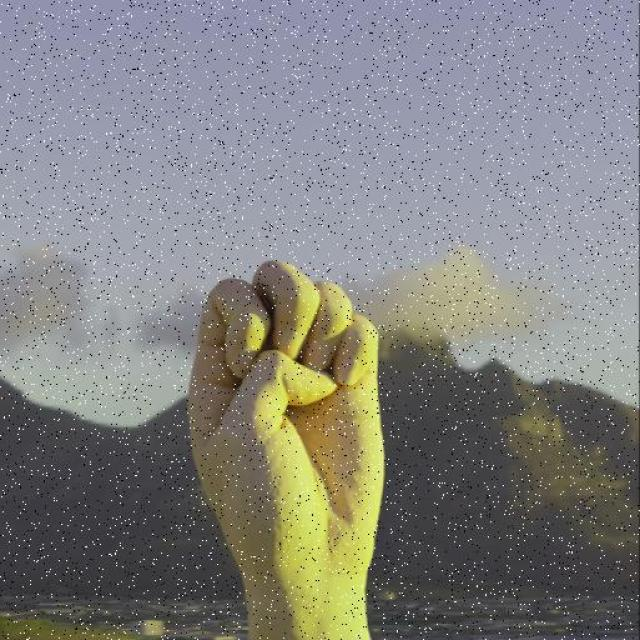E: (184, 258, 387, 572)
